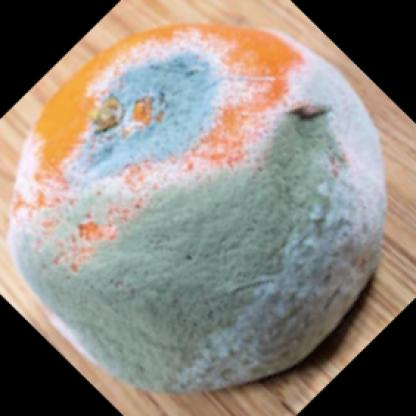rotten: (11, 24, 387, 395)
